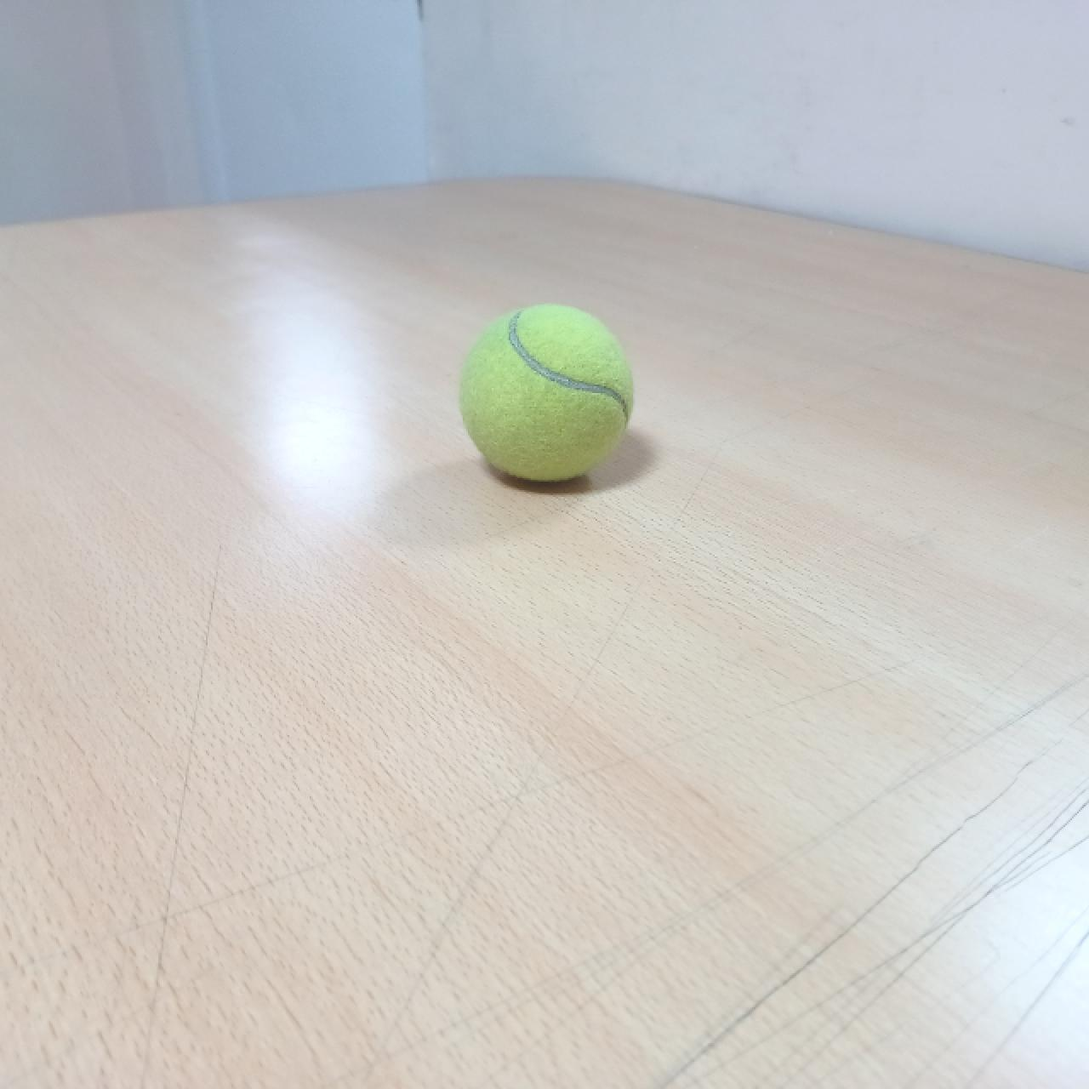tennis-ball: (462, 303, 635, 493)
